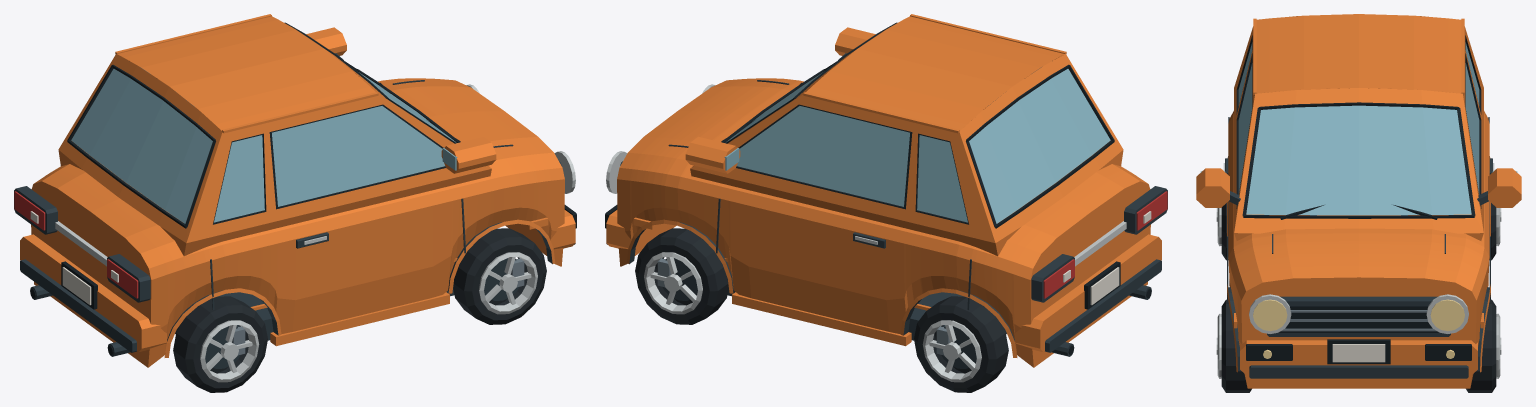
File: b03_two_seat_microcar.glb
3 renders of one model, left to right at view 1: azimuth 30°, elevation 25°; view 2: azimuth 150°, elevation 25°; view 3: azimuth 270°, elevation 25°, orthographic. The views are drawn at different scales.
Parts seen in each view (by area): view 1: b03_two_seat_microcar; view 2: b03_two_seat_microcar; view 3: b03_two_seat_microcar.
Boxes of the visible parts, left/top/right/bottom form: b03_two_seat_microcar: left=14, top=14, right=576, bottom=392; b03_two_seat_microcar: left=605, top=14, right=1167, bottom=392; b03_two_seat_microcar: left=1196, top=14, right=1521, bottom=392.
Size of the model in its own units: 2.87 by 1.54 by 1.84.
